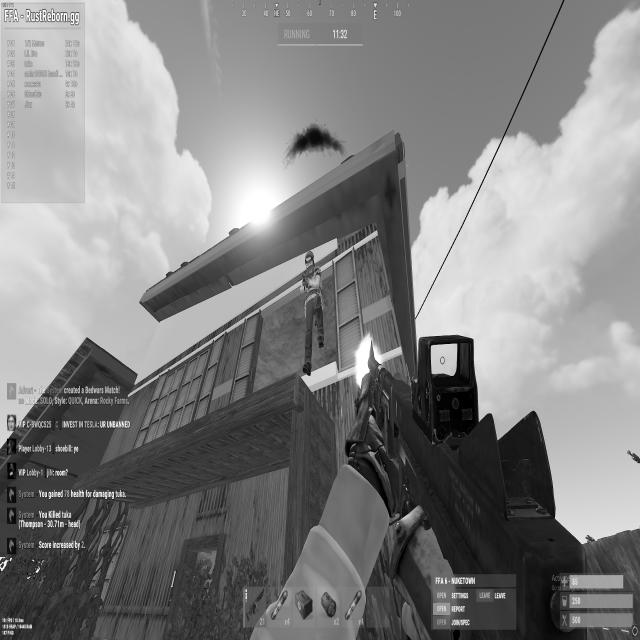Player: (299, 250, 325, 376), (305, 251, 316, 275)
